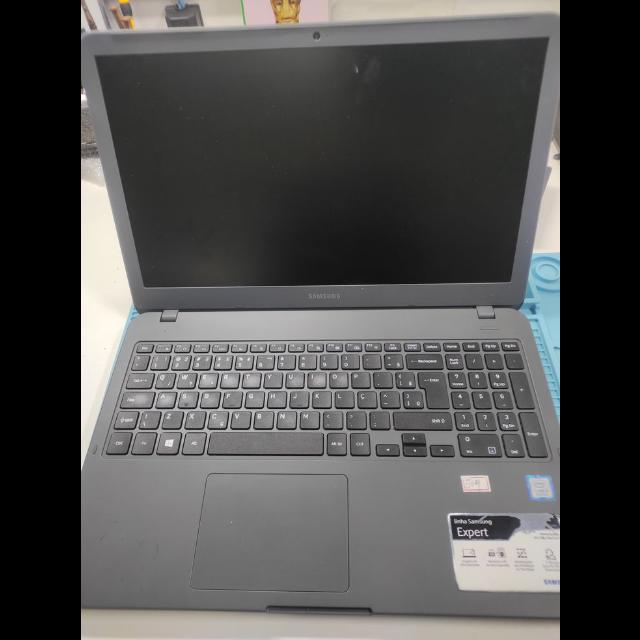laptop: (80, 18, 560, 640)
